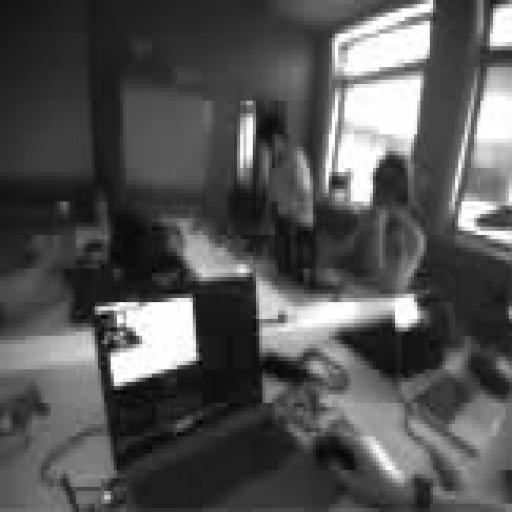human: (329, 399, 511, 511), (336, 152, 426, 293), (263, 118, 316, 281)
